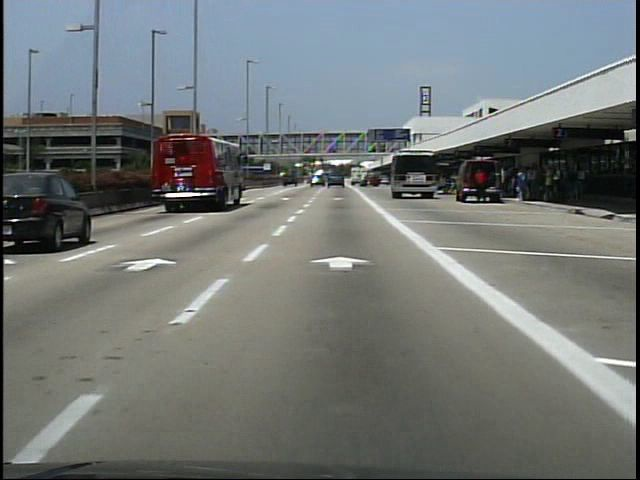person: (474, 164, 490, 205)
